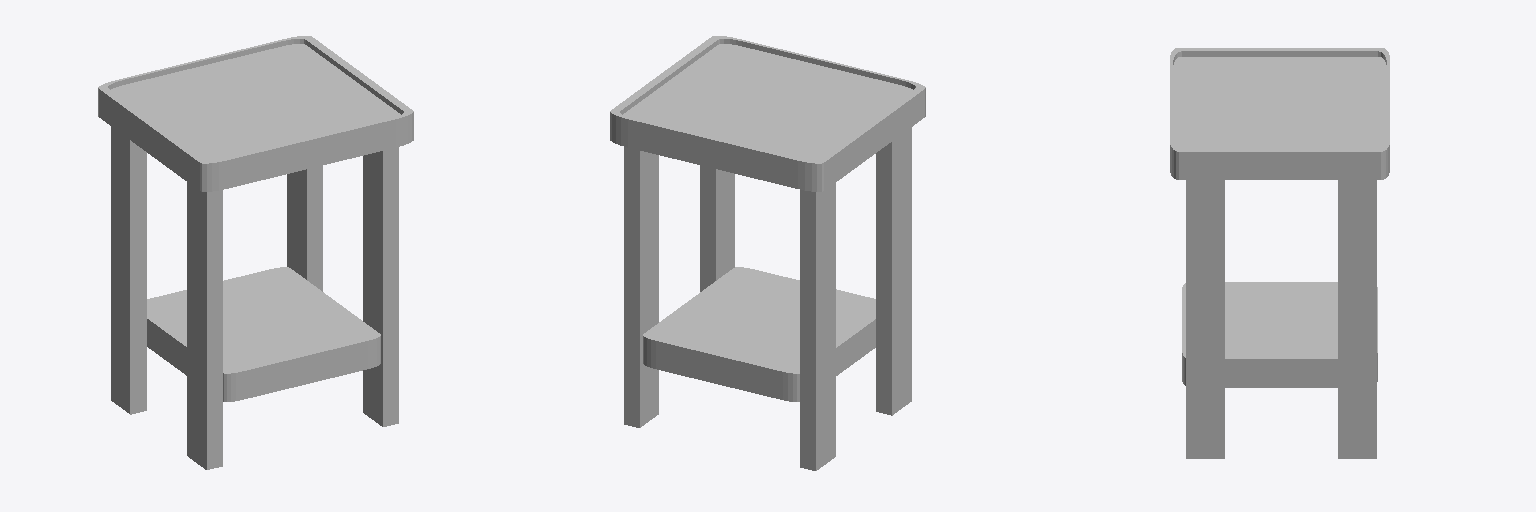
Rendered from MESA PEQUEÑA.obj.
The picture shows the model from 3 angles: view 1: azimuth 30°, elevation 25°; view 2: azimuth 150°, elevation 25°; view 3: azimuth 270°, elevation 25°; orthographic projection.
Visible parts, largest first — view 1: pCube1, pCube6, pCube2, pCube3, pCube5, pCube4; view 2: pCube1, pCube6, pCube3, pCube2, pCube4, pCube5; view 3: pCube1, pCube6, pCube4, pCube5.
Boxes of the visible parts, x1=… form: pCube1: x1=98, y1=36, x2=413, y2=191; pCube6: x1=147, y1=267, x2=380, y2=401; pCube2: x1=187, y1=182, x2=222, y2=469; pCube3: x1=111, y1=127, x2=146, y2=414; pCube5: x1=363, y1=147, x2=398, y2=426; pCube4: x1=287, y1=166, x2=322, y2=291; pCube1: x1=610, y1=36, x2=925, y2=191; pCube6: x1=643, y1=267, x2=875, y2=401; pCube3: x1=800, y1=183, x2=835, y2=470; pCube2: x1=876, y1=127, x2=911, y2=415; pCube4: x1=624, y1=147, x2=658, y2=427; pCube5: x1=700, y1=165, x2=734, y2=291; pCube1: x1=1170, y1=48, x2=1389, y2=179; pCube6: x1=1182, y1=282, x2=1377, y2=387; pCube4: x1=1338, y1=180, x2=1376, y2=458; pCube5: x1=1186, y1=180, x2=1224, y2=458.
Bounding box in the file's own units: 4.77 × 6.68 × 4.26.